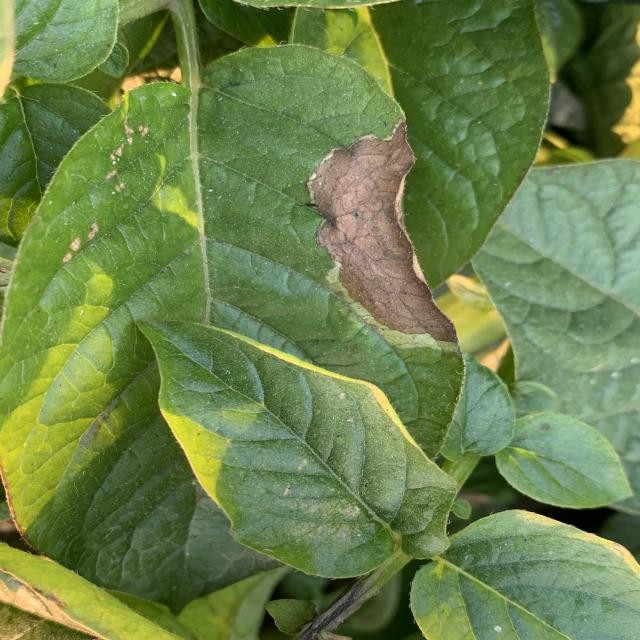lateblight: (308, 121, 457, 344)
